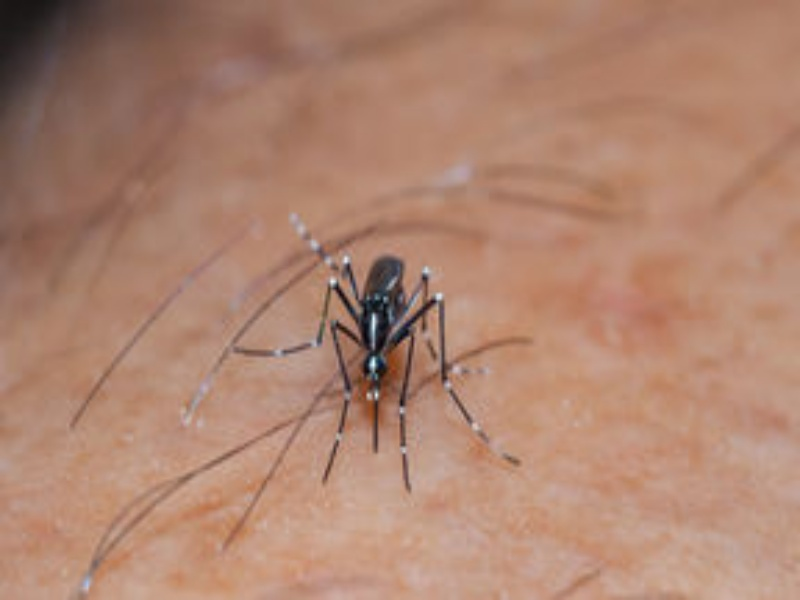dengue_mosquito: (287, 254, 496, 446)
